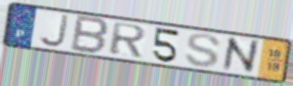5: (151, 26, 180, 64)
B: (68, 13, 111, 56)
J: (36, 14, 70, 49)
N: (221, 35, 261, 75)
R: (107, 21, 149, 59)
S: (183, 32, 224, 69)
